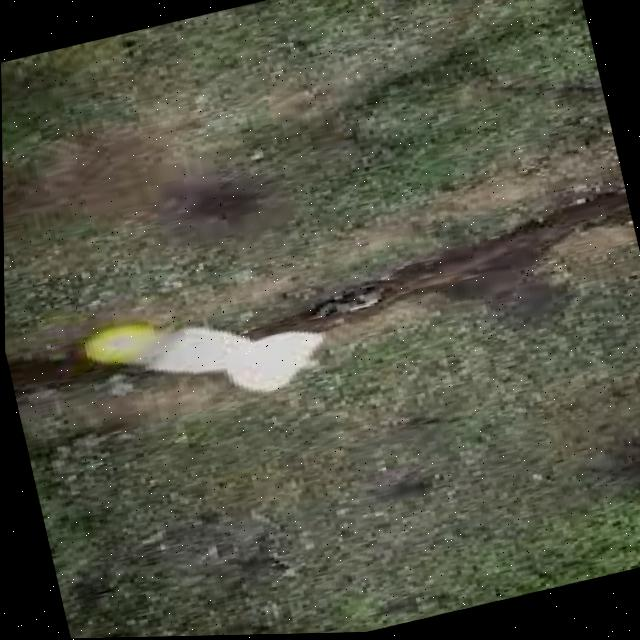grenade: (61, 269, 345, 447)
